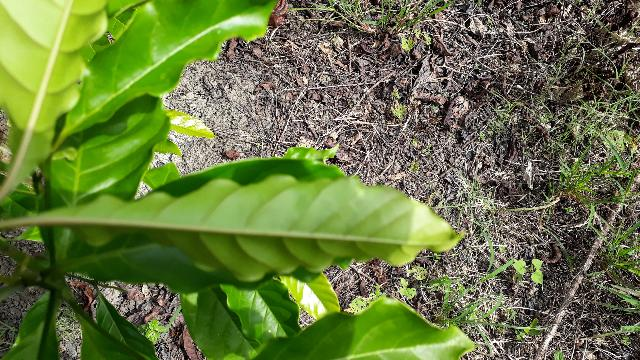healthy: (35, 174, 456, 280)
